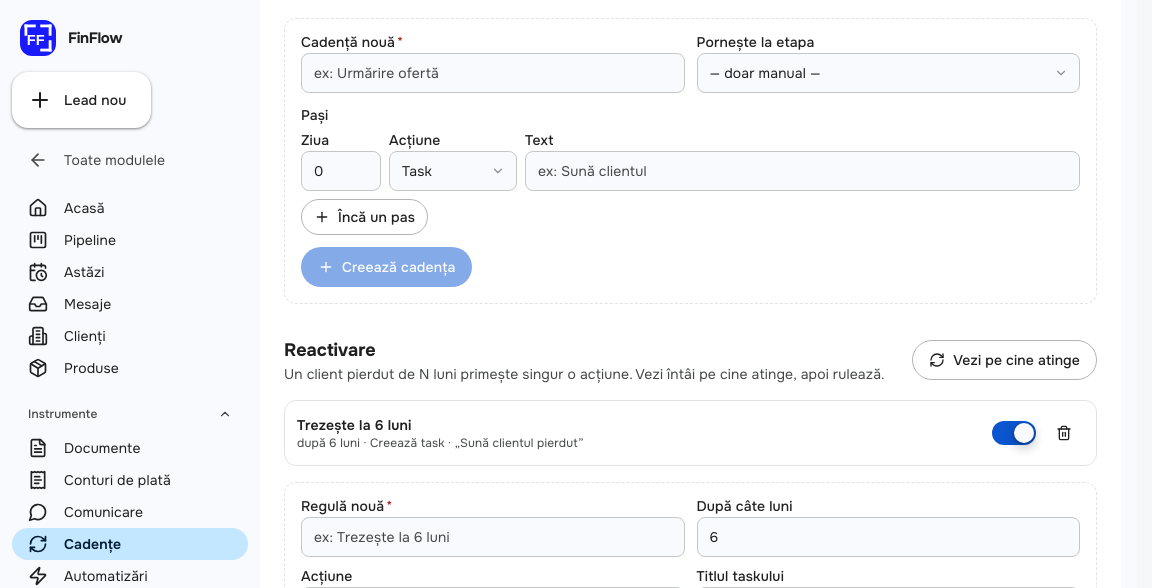
Reactivare › [blocant] butonul de rulare apare DOAR după ce se vede pe cine atinge
(page scrolled)
Expected: the text "Trezește la 6 luni" is shown, [297, 416, 412, 434]
Expected: the button "Rulează pentru" is not shown
Click the button "Vezi pe cine atinge" at (1005, 360), box [912, 340, 1097, 380]
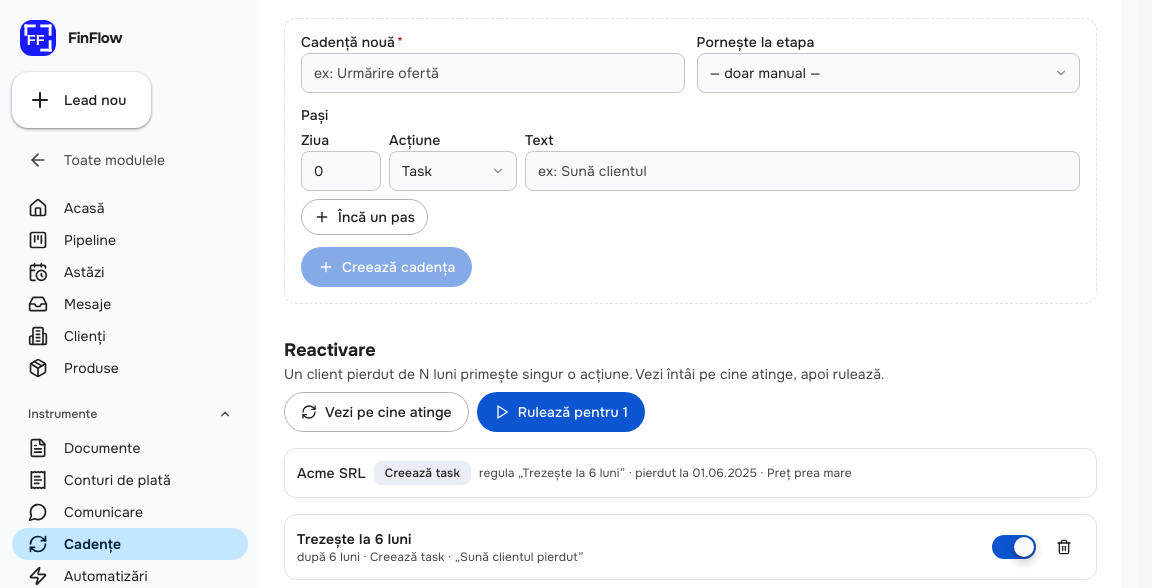
Expected: the text "Acme SRL" is shown, [297, 463, 366, 483]
Expected: the text "Preț prea mare" is shown, [757, 465, 852, 481]
Expected: the button "Rulează pentru 1" is shown, [477, 392, 645, 432]
